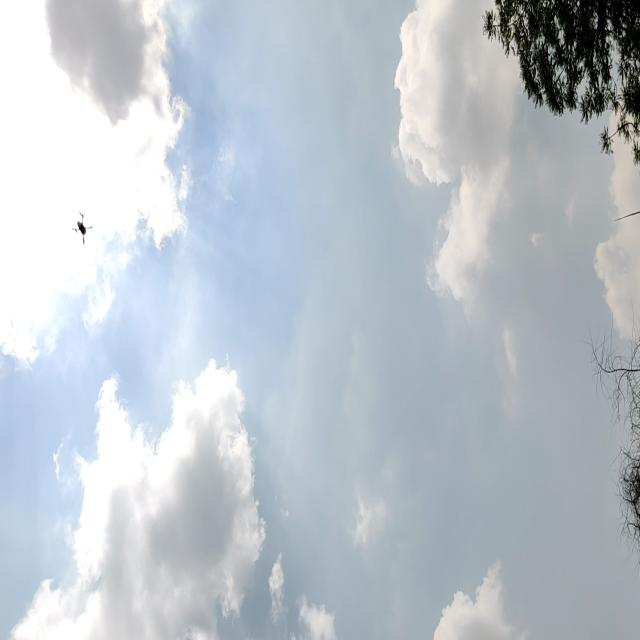drone: (68, 206, 95, 248)
